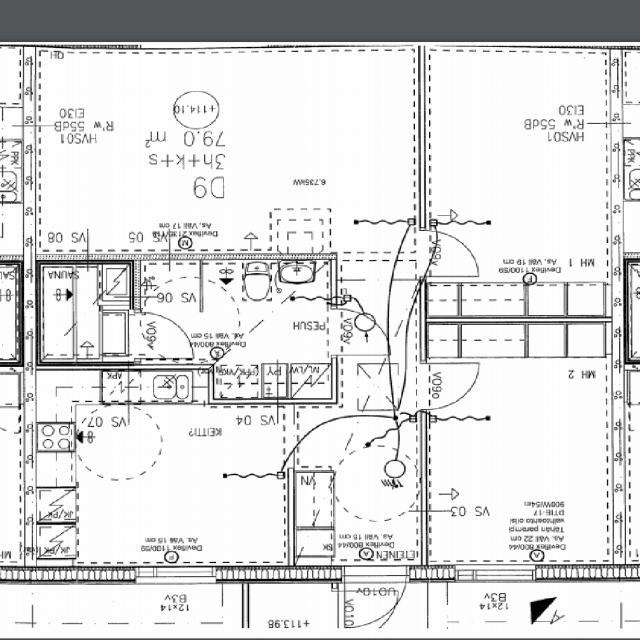door: (344, 565, 406, 637), (134, 312, 195, 359), (419, 363, 480, 409), (419, 230, 480, 276), (330, 308, 389, 355), (333, 0, 393, 46)
